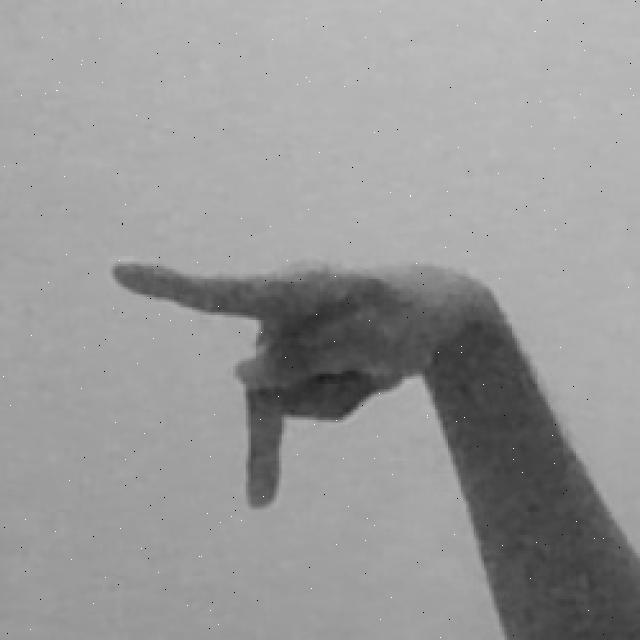P: (105, 256, 640, 640)
